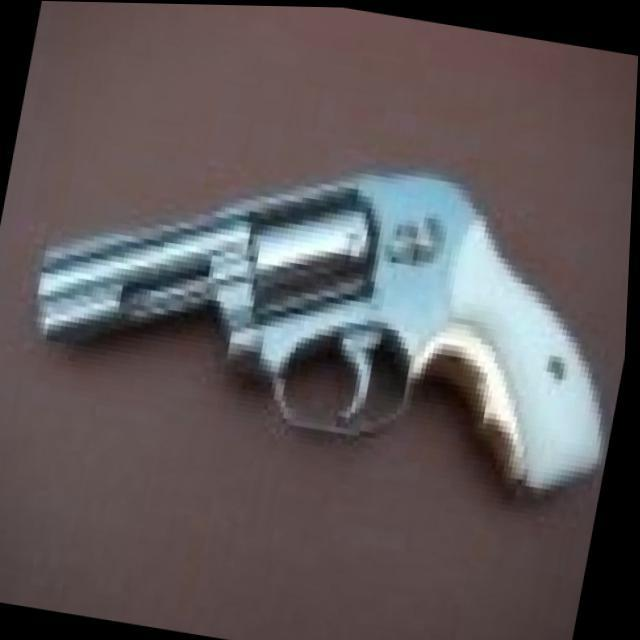weapon: (8, 107, 636, 506)
